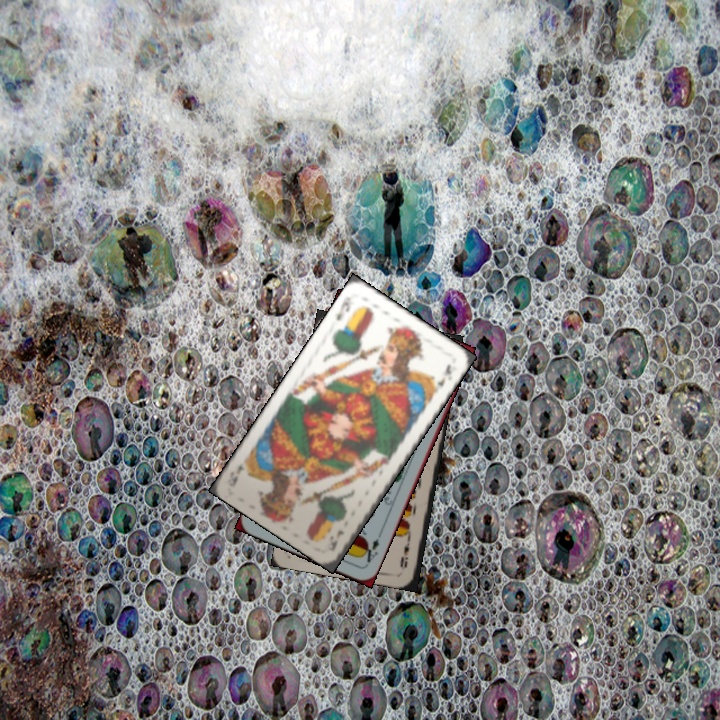E9: (396, 533, 413, 572)
EA: (358, 534, 382, 568)
EK: (332, 292, 357, 323), (323, 526, 347, 554)
